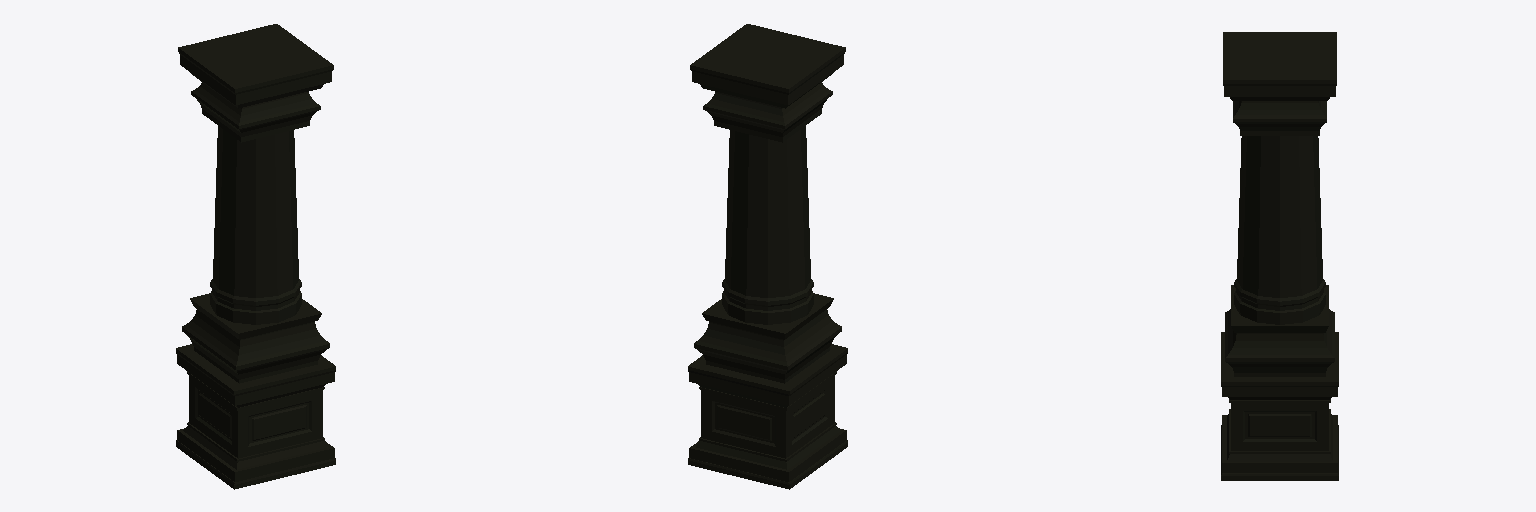
Rendered from Column_Round_Short.obj.
The picture shows the model from 3 angles: view 1: azimuth 30°, elevation 25°; view 2: azimuth 150°, elevation 25°; view 3: azimuth 270°, elevation 25°; orthographic projection.
Parts seen in each view (by area): view 1: Column_Round_Short; view 2: Column_Round_Short; view 3: Column_Round_Short.
Boxes of the visible parts, x1=… form: Column_Round_Short: x1=176, y1=24, x2=335, y2=489; Column_Round_Short: x1=688, y1=24, x2=847, y2=489; Column_Round_Short: x1=1221, y1=32, x2=1338, y2=480.
Bounding box in the file's own units: 0.4894 × 1.83 × 0.4894.